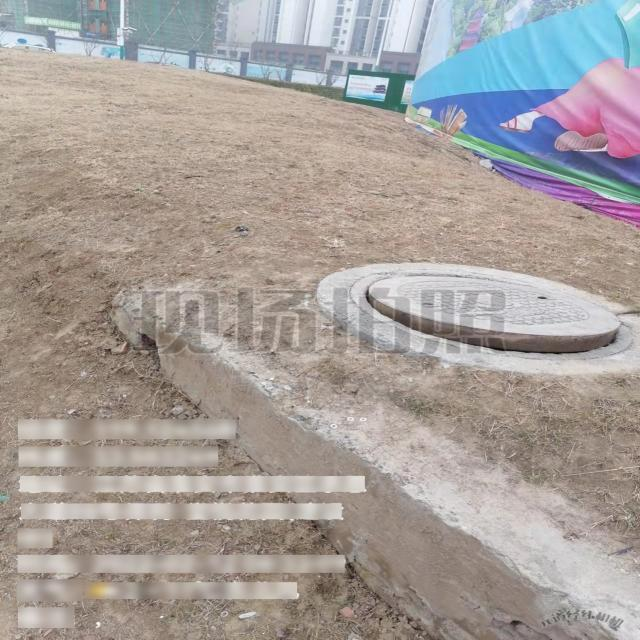Lose: (346, 272, 634, 362)
